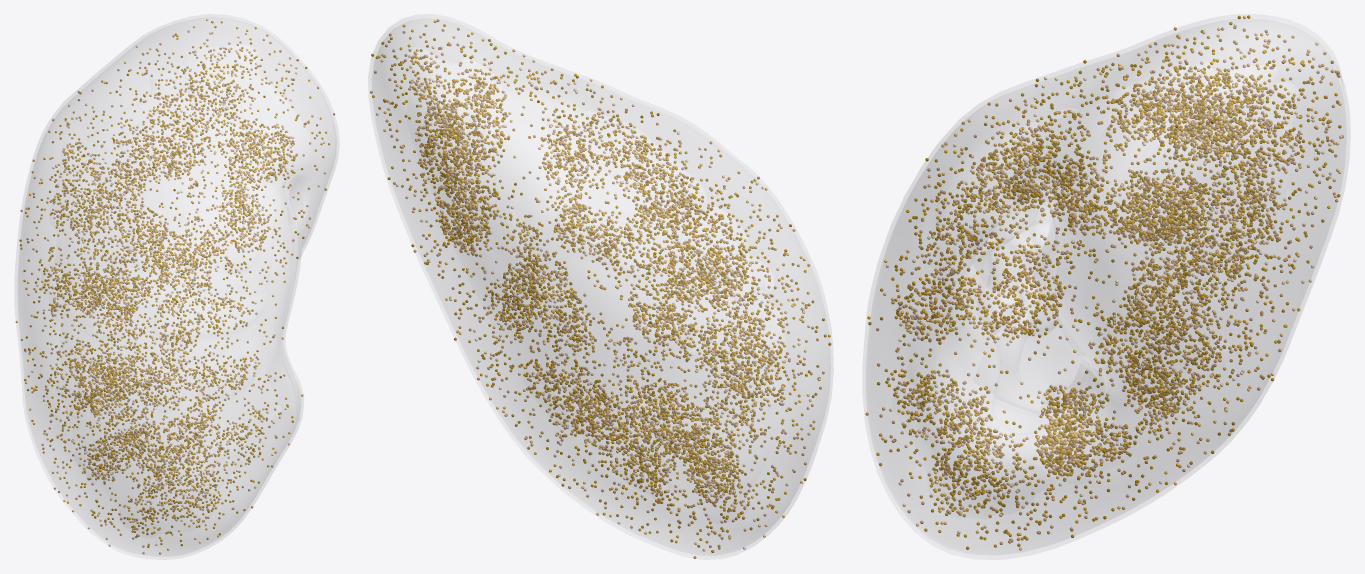
File: 3d-vh-f-kidney-r-UBERON_0004539-all-as-azimuth-sphere-hra-pop.glb
3 renders of one model, left to right at view 1: azimuth 30°, elevation 25°; view 2: azimuth 150°, elevation 25°; view 3: azimuth 270°, elevation 25°, orthographic. The views are drawn at different scales.
Parts seen in each view (by area): view 1: VH_F_kidney_capsule_R, VH_F_outer_cortex_of_kidney_R, VH_F_hilum_of_kidney_R; view 2: VH_F_kidney_capsule_R, VH_F_outer_cortex_of_kidney_R; view 3: VH_F_kidney_capsule_R, VH_F_outer_cortex_of_kidney_R, VH_F_hilum_of_kidney_R, VH_F_renal_column_R, VH_F_renal_pyramid_R_h.
Boxes of the visible parts, x1,y1,x2,y2 form: VH_F_kidney_capsule_R: [15, 14, 338, 559]; VH_F_outer_cortex_of_kidney_R: [18, 18, 334, 555]; VH_F_hilum_of_kidney_R: [281, 171, 312, 399]; VH_F_kidney_capsule_R: [368, 14, 833, 559]; VH_F_outer_cortex_of_kidney_R: [373, 19, 828, 554]; VH_F_kidney_capsule_R: [863, 14, 1349, 559]; VH_F_outer_cortex_of_kidney_R: [868, 19, 1345, 553]; VH_F_hilum_of_kidney_R: [935, 176, 1096, 467]; VH_F_renal_column_R: [969, 205, 1085, 410]; VH_F_renal_pyramid_R_h: [972, 248, 1053, 338].
Size of the model in its own units: 0.0734 by 0.0979 by 0.0695.
